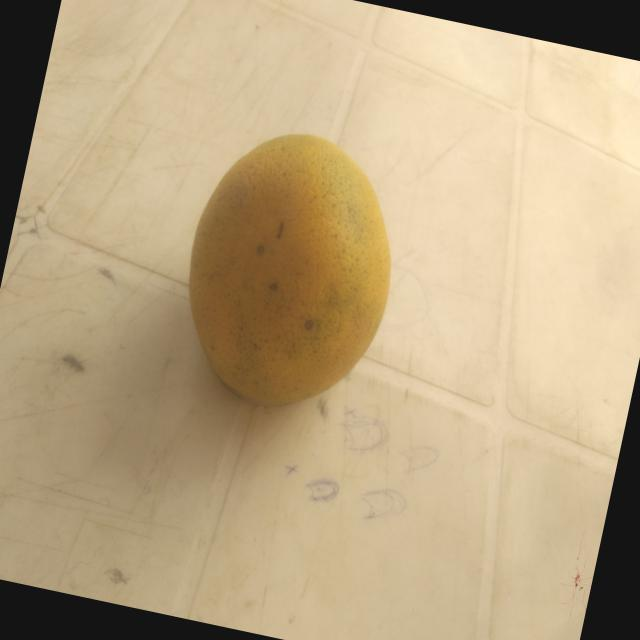Ripe orange: (134, 100, 432, 466)
